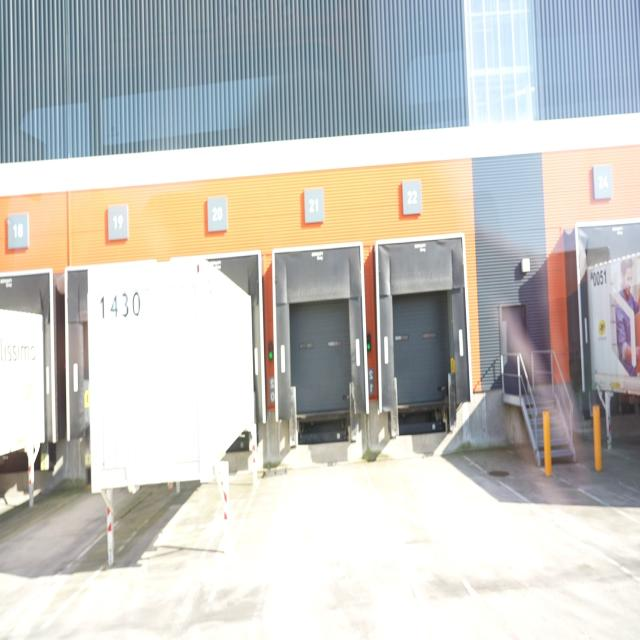Code: (97, 288, 144, 322)
